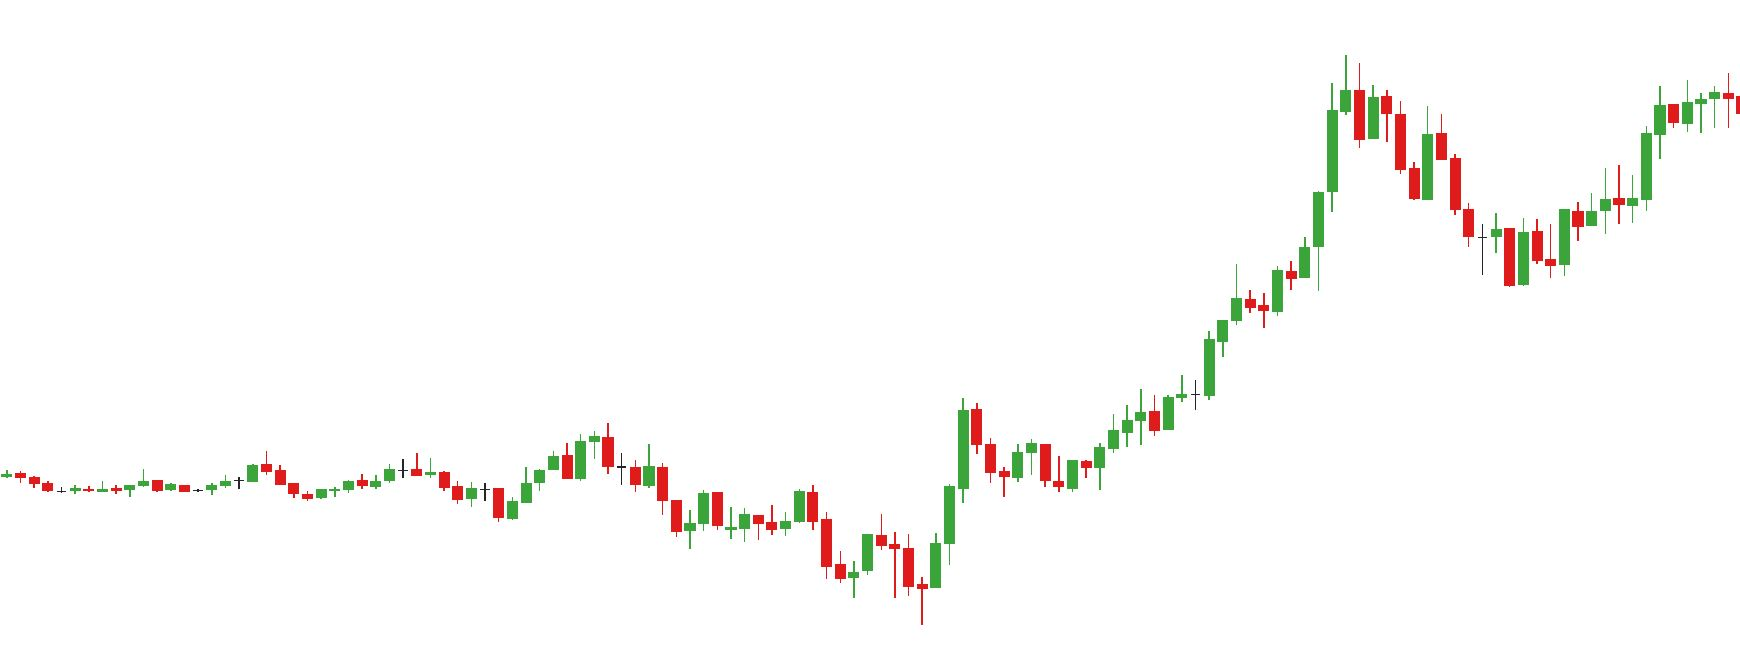buy: (848, 545, 941, 631)
